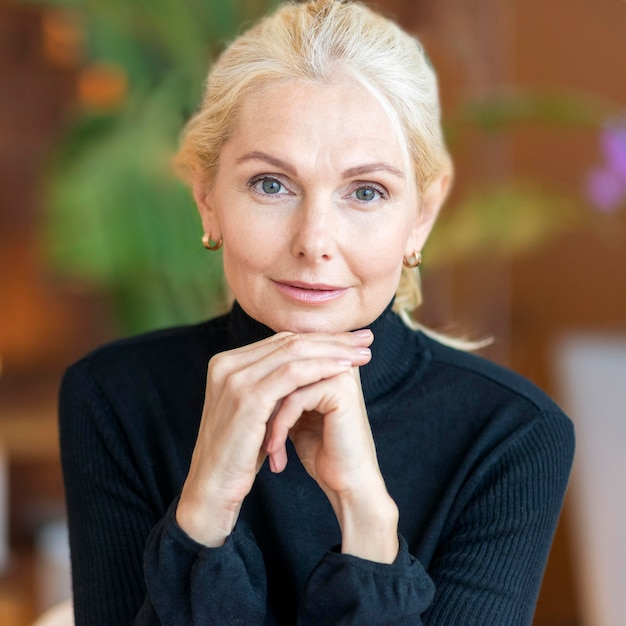young: (171, 5, 440, 347)
